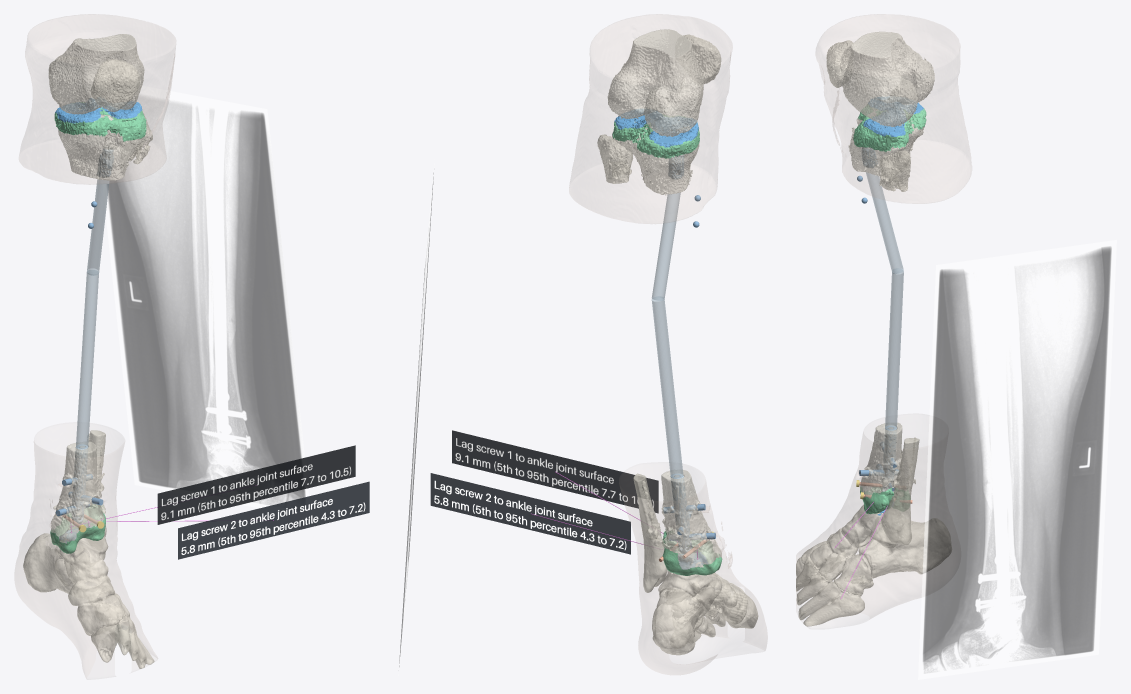
Rendered from 2024-02-20_091723_lat.glb.
3 renders of one model, left to right at view 1: azimuth 30°, elevation 25°; view 2: azimuth 150°, elevation 25°; view 3: azimuth 270°, elevation 25°, orthographic. The views are drawn at different scales.
Visible parts, largest first — view 1: radiograph, skin, implant_8, tibia, implant_16, tarsal, femur, nail_modelled, patella, metatarsal, capsule_band_knee, nail (+3 smaller); view 2: skin, femur, implant_17, implant_9, tibia, tarsal, nail_modelled, fibula, articular_surface_knee, radiograph, capsule_band_knee, nail (+3 smaller); view 3: radiograph, skin, tarsal, femur, tibia, fibula, nail_modelled, metatarsal, capsule_band_knee, articular_surface_knee, nail, patella (+1 smaller).
Boxes of the visible parts, box(x1,y1,x2,y2) form: radiograph: box(103, 86, 308, 508); skin: box(15, 14, 175, 678); implant_8: box(157, 445, 355, 524); tibia: box(50, 110, 144, 553); implant_16: box(178, 481, 369, 559); tarsal: box(23, 530, 129, 635); femur: box(48, 34, 144, 114); nail_modelled: box(76, 179, 109, 448); patella: box(90, 59, 140, 112); metatarsal: box(91, 615, 154, 668); capsule_band_knee: box(54, 102, 146, 141); nail: box(71, 146, 113, 523); skin: box(569, 14, 767, 674); femur: box(607, 29, 703, 136); implant_17: box(430, 473, 630, 554); implant_9: box(452, 430, 658, 513); tibia: box(612, 121, 721, 574); tarsal: box(652, 553, 747, 655); nail_modelled: box(651, 192, 683, 478); fibula: box(597, 134, 667, 592); articular_surface_knee: box(614, 109, 698, 147); radiograph: box(398, 164, 434, 675); capsule_band_knee: box(612, 115, 699, 158); nail: box(668, 154, 691, 553); radiograph: box(918, 240, 1116, 679); skin: box(796, 14, 971, 618); tarsal: box(801, 504, 951, 595); femur: box(842, 31, 934, 127); tibia: box(848, 118, 924, 514); fibula: box(879, 150, 919, 544); nail_modelled: box(866, 172, 903, 430); metatarsal: box(796, 556, 864, 626); capsule_band_knee: box(853, 105, 926, 151); articular_surface_knee: box(863, 97, 923, 136); nail: box(862, 147, 896, 491); patella: box(826, 40, 853, 87).
Bounding box in the file's own units: 0.2864 × 0.5338 × 0.2673.
Materials: 15 (3 with a texture image).
